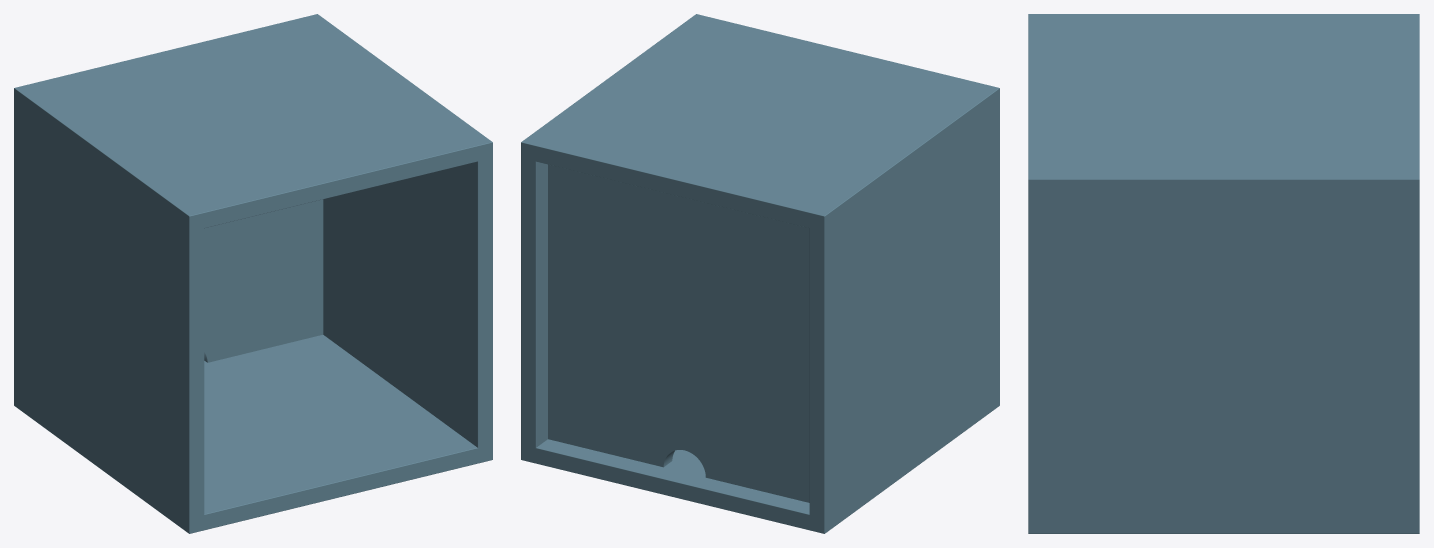
The model's file is MOD-1X1-A-B-AP-AC.glb.
3 views of the same model, side by side, from view 1: azimuth 30°, elevation 25°; view 2: azimuth 150°, elevation 25°; view 3: azimuth 270°, elevation 25° (orthographic). The views are drawn at different scales.
Bounding box in the file's own units: 360 × 360 × 360.
